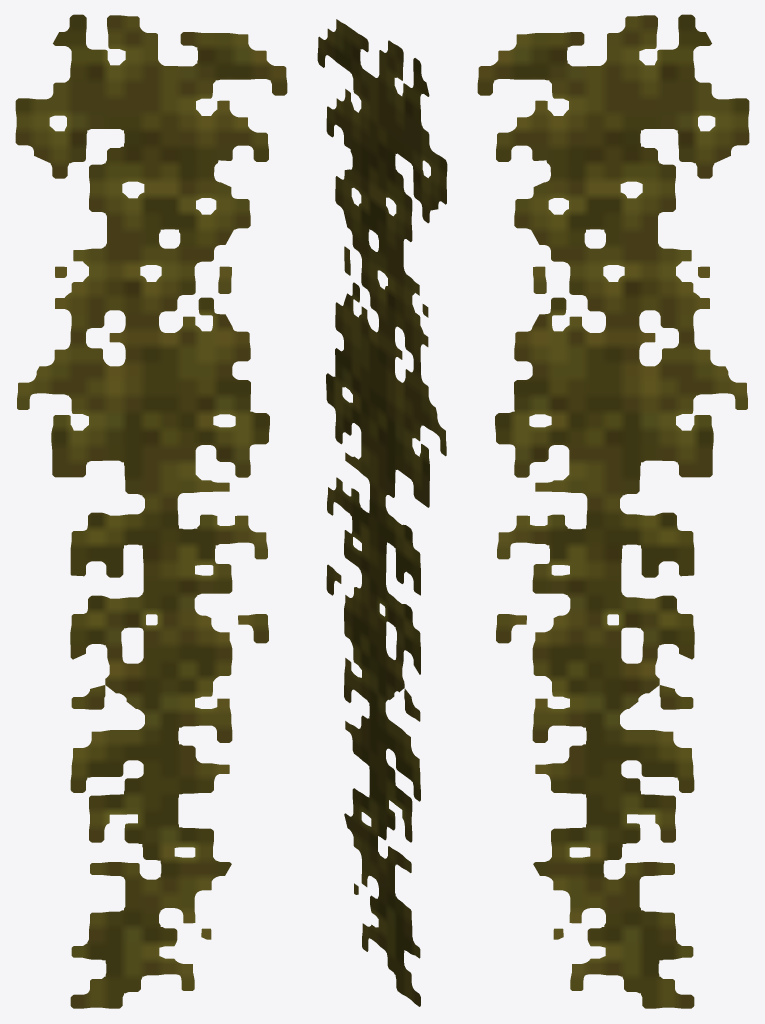
The model's file is ObjMD_Grass_D_ivyC.FBX.
The picture shows the model from 3 angles, left to right: view 1: azimuth 90°, elevation 25°; view 2: azimuth 210°, elevation 25°; view 3: azimuth 270°, elevation 25°; orthographic projection. The views are drawn at different scales.
Parts seen in each view (by area): view 1: ObjMD_Grass_D_ivyC; view 2: ObjMD_Grass_D_ivyC; view 3: ObjMD_Grass_D_ivyC.
Part boxes in pixels (left/top/right/bottom): ObjMD_Grass_D_ivyC: left=15, top=14, right=287, bottom=1008; ObjMD_Grass_D_ivyC: left=317, top=19, right=447, bottom=1006; ObjMD_Grass_D_ivyC: left=477, top=14, right=749, bottom=1008.
Bounding box in the file's own units: 0 × 375 × 93.75.
